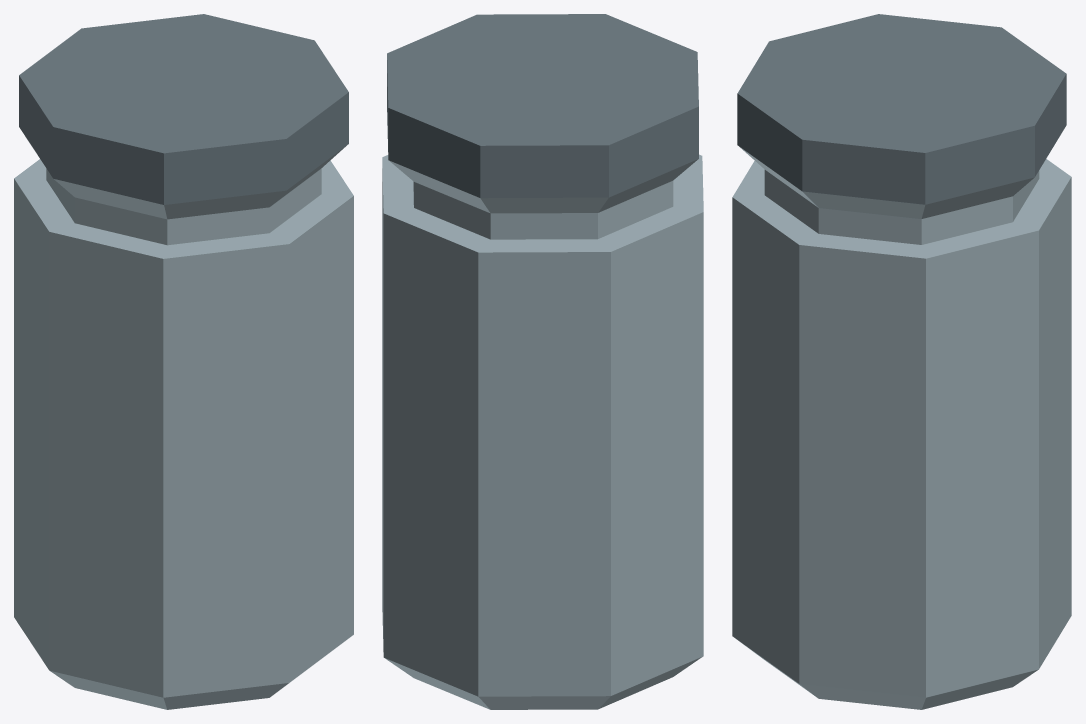
The model's file is container.glb.
3 views of the same model, side by side, from view 1: azimuth 30°, elevation 25°; view 2: azimuth 150°, elevation 25°; view 3: azimuth 270°, elevation 25° (orthographic).
Parts seen in each view (by area): view 1: container; view 2: container; view 3: container.
Boxes of the visible parts, left/top/right/bottom form: container: left=14, top=14, right=353, bottom=709; container: left=382, top=14, right=703, bottom=709; container: left=732, top=14, right=1071, bottom=709.
Size of the model in its own units: 0.1352 by 0.25 by 0.1352.
